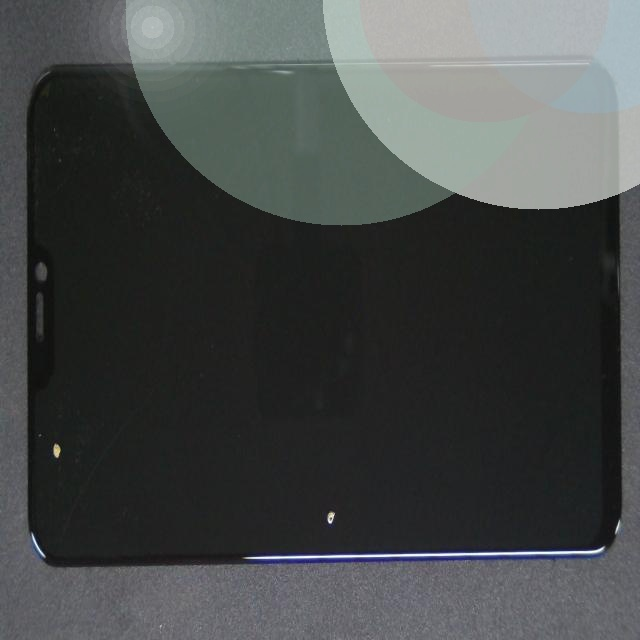stain: (195, 287, 552, 640), (26, 149, 74, 640)
